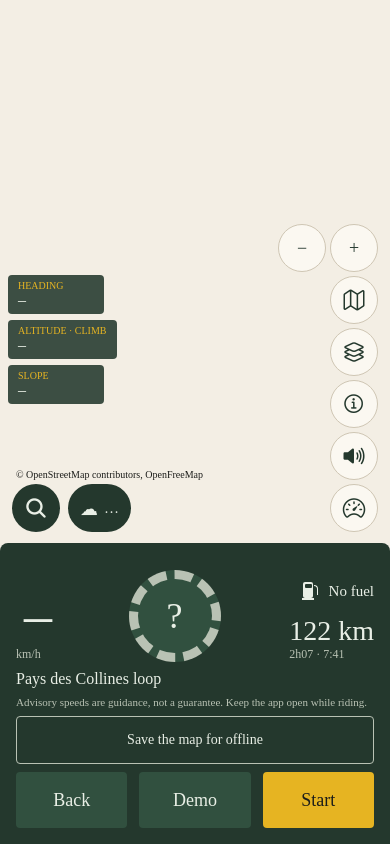
Test: after a place is chosen, Find opens on the kinds with the last results under them, and another kind can be chosen
Click the button with test id "places-chip" at (36, 508), box [12,484,60,532]
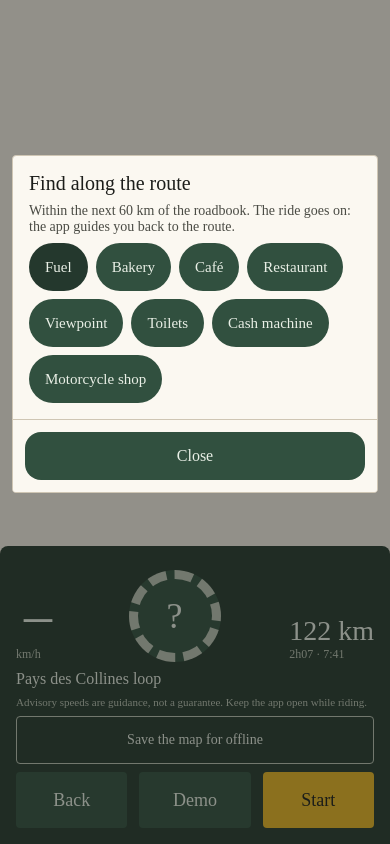
Click the button with aria-label "Look for: Bakery" at (133, 267), box [96,243,171,291]
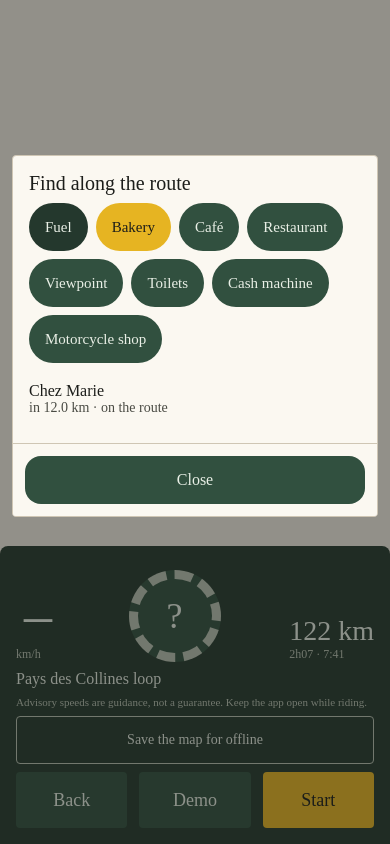
Click the button labelled "Chez Marie in 12.0 km · on the route" at (67, 390), box [29,371,361,427]
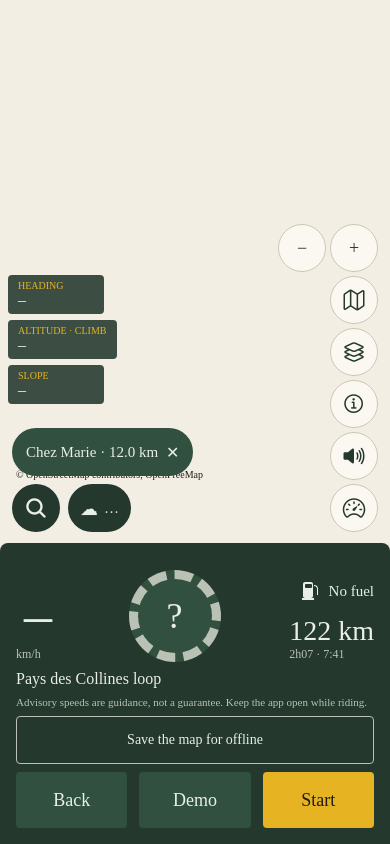
Result: the element with test id "sheet" is gone
Click the button with test id "places-chip" at (36, 508), box [12,484,60,532]
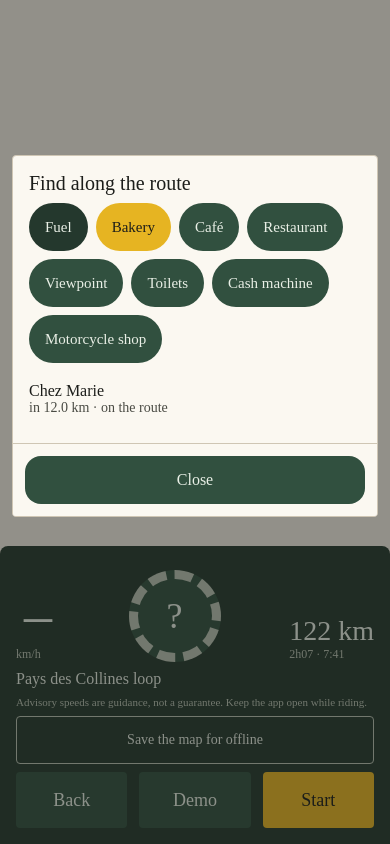
Result: the button with aria-label "Look for: Bakery" is shown at [96,203,171,251]
Result: the button with aria-label "Look for: Café" is shown at [179,203,239,251]
Result: the button with aria-label "Look for: Toilets" is shown
Click the button with aria-label "Look for: Toilets" at (168, 283), box [131,259,204,307]
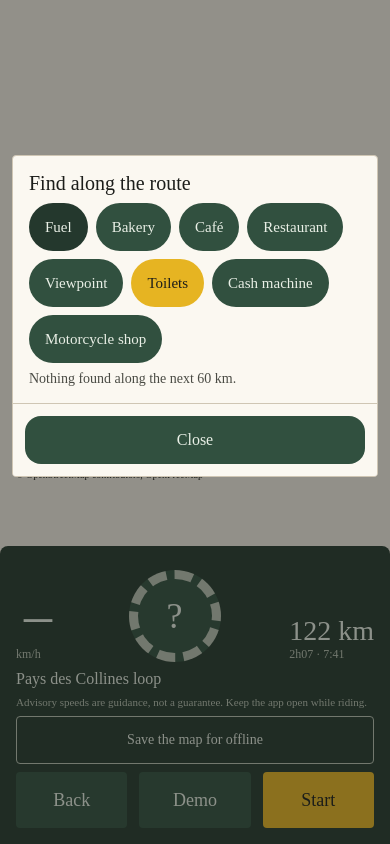
Result: the button labelled "Chez Marie" is gone
